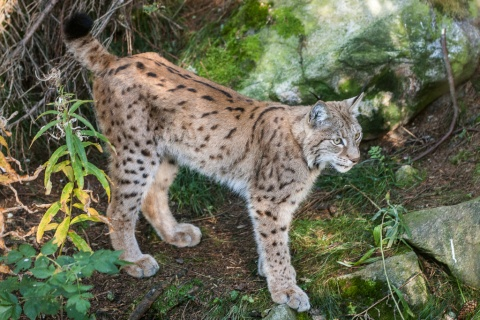Cat: (63, 7, 361, 308)
